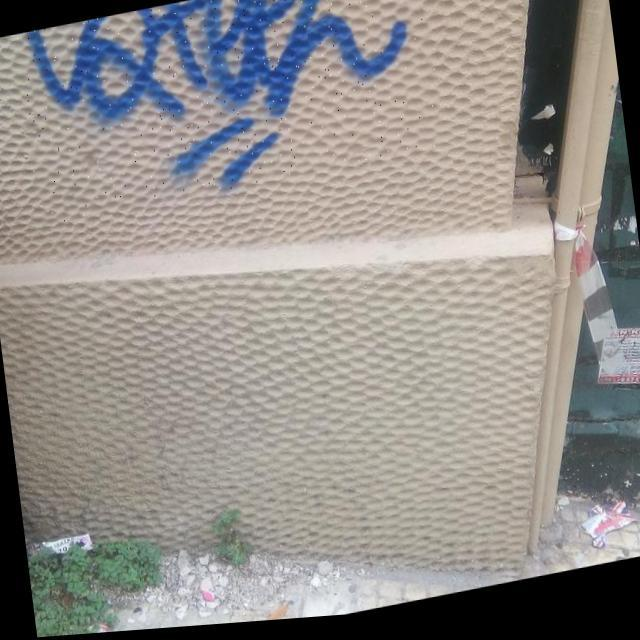-: (16, 0, 445, 227)
